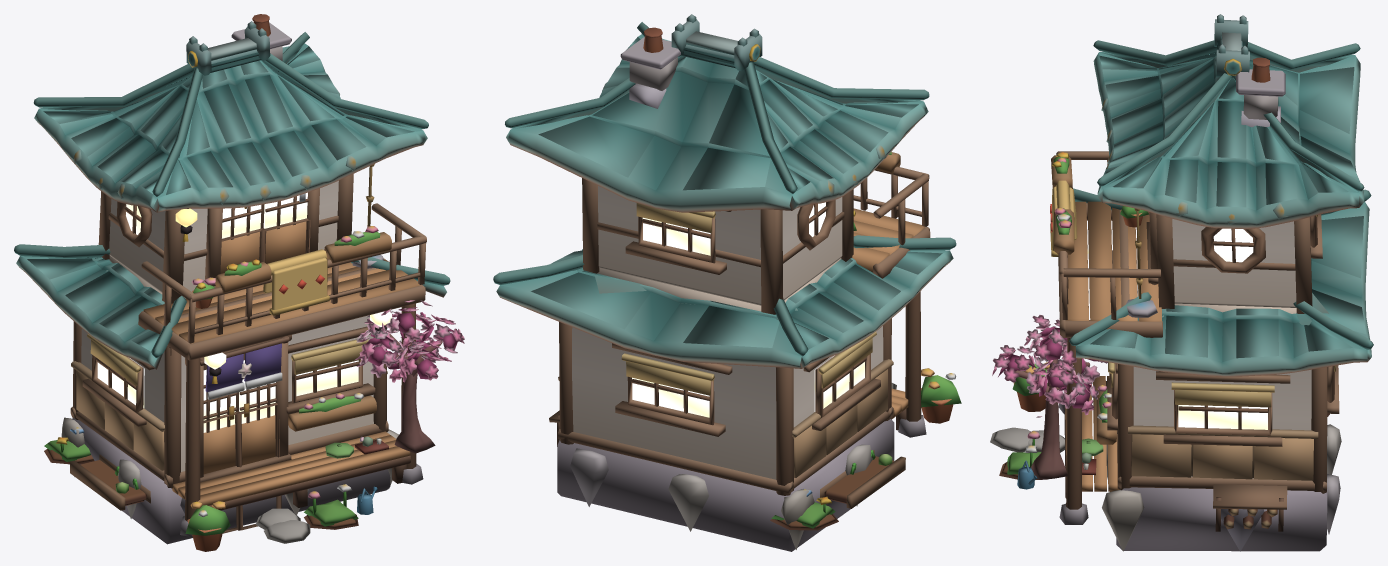
The model's file is home-3-v6.glb.
The picture shows the model from 3 angles, left to right: view 1: azimuth 30°, elevation 25°; view 2: azimuth 150°, elevation 25°; view 3: azimuth 270°, elevation 25°; orthographic projection. The views are drawn at different scales.
Visible parts, largest first — view 1: home-3-v6, window_glow; view 2: home-3-v6, window_glow; view 3: home-3-v6, window_glow.
Boxes of the visible parts, x1,y1,x2,y2 form: home-3-v6: (14, 14, 464, 551); window_glow: (97, 192, 391, 432); home-3-v6: (493, 14, 961, 551); window_glow: (632, 202, 864, 417); home-3-v6: (990, 14, 1373, 551); window_glow: (1087, 228, 1267, 429).
Bounding box in the file's own units: 3.26 × 4.61 × 3.43.
